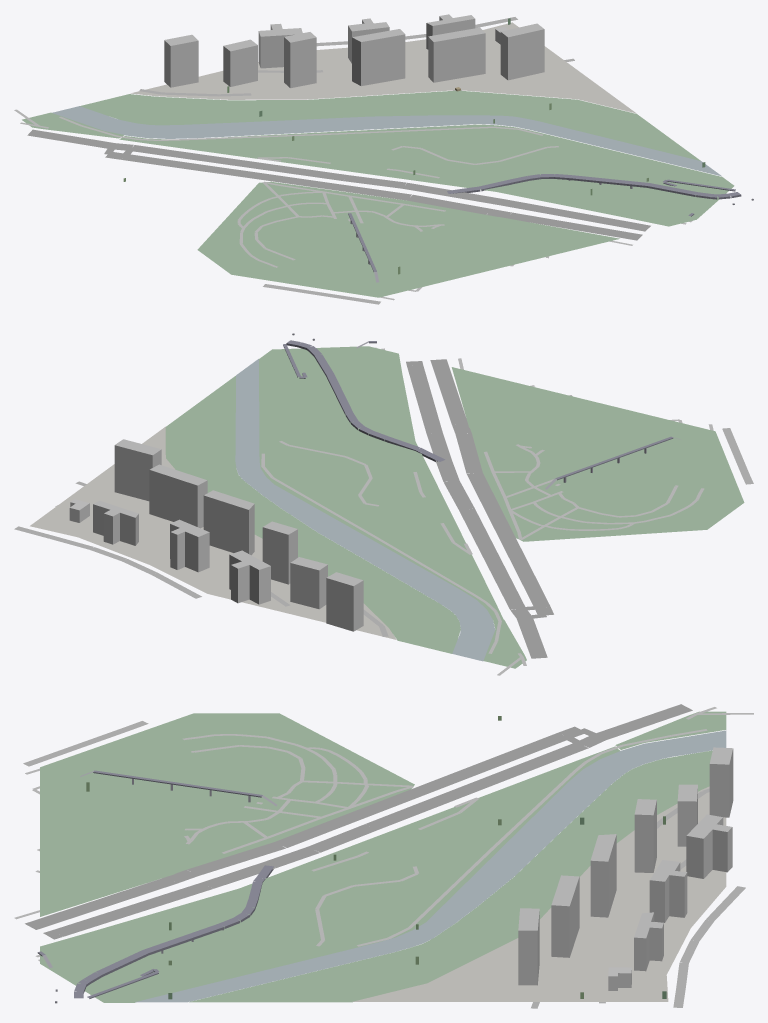
3 renders of one model, top to bottom at view 1: azimuth 30°, elevation 25°; view 2: azimuth 150°, elevation 25°; view 3: azimuth 270°, elevation 25°, orthographic. The views are drawn at different scales.
Size of the model in its own units: 523 by 49.57 by 539.
